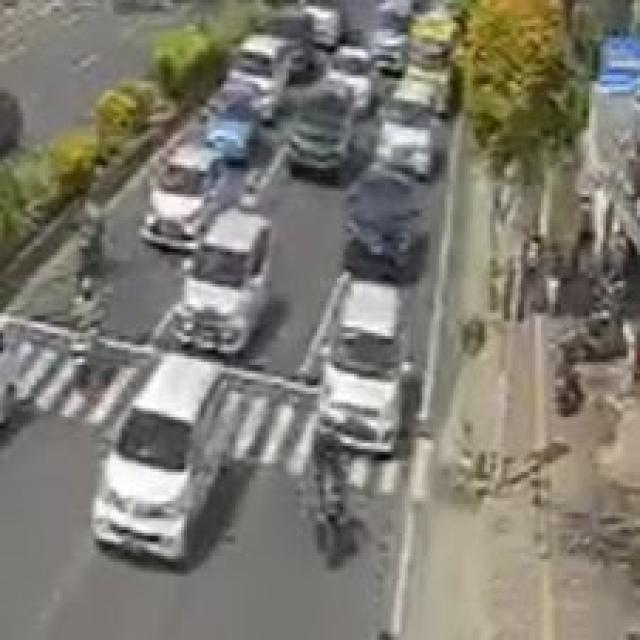car: (95, 351, 247, 581), (182, 210, 282, 361), (318, 276, 401, 453), (142, 145, 240, 254), (346, 172, 433, 290), (378, 68, 458, 179)
motorbike: (288, 429, 373, 574), (55, 278, 110, 407)
